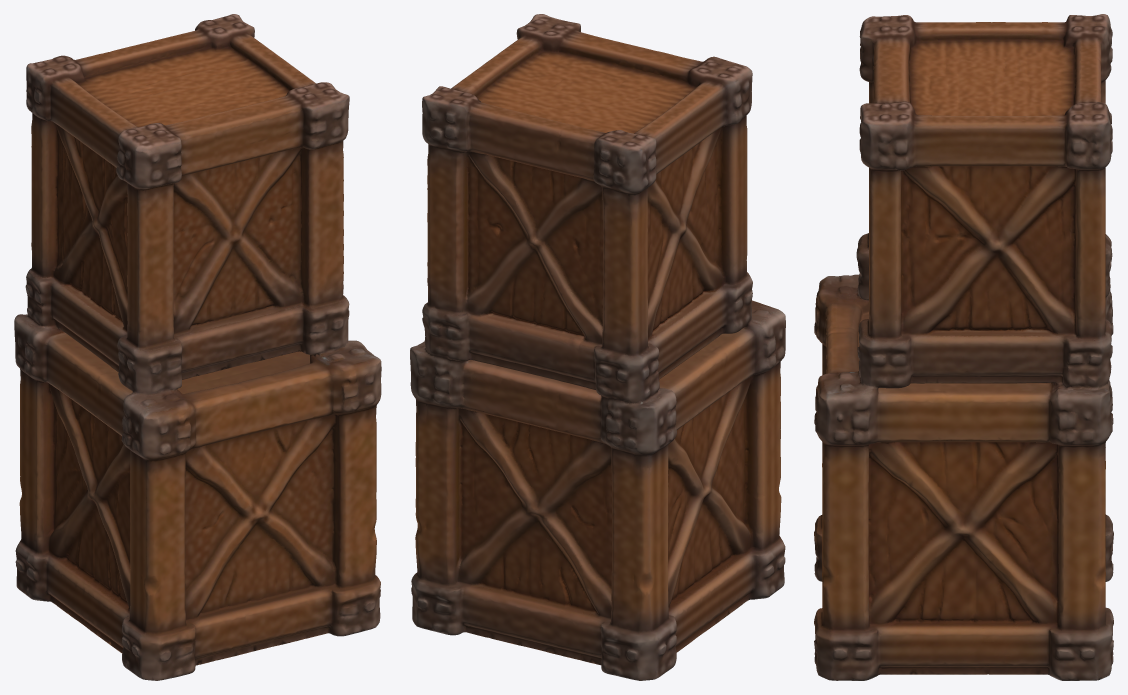
Rendered from item_ambiente_md_1.glb.
3 renders of one model, left to right at view 1: azimuth 30°, elevation 25°; view 2: azimuth 150°, elevation 25°; view 3: azimuth 270°, elevation 25°, orthographic. The views are drawn at different scales.
Bounding box in the file's own units: 0.9414 × 1.9 × 0.9354.
Materials: 1 (1 with a texture image).
